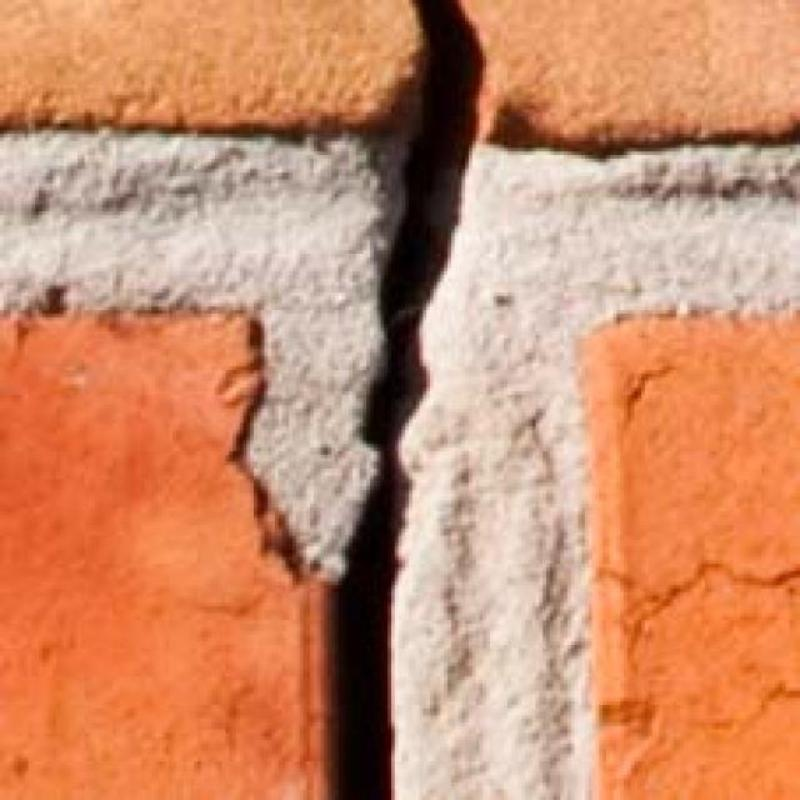pothole: (333, 0, 484, 800)
